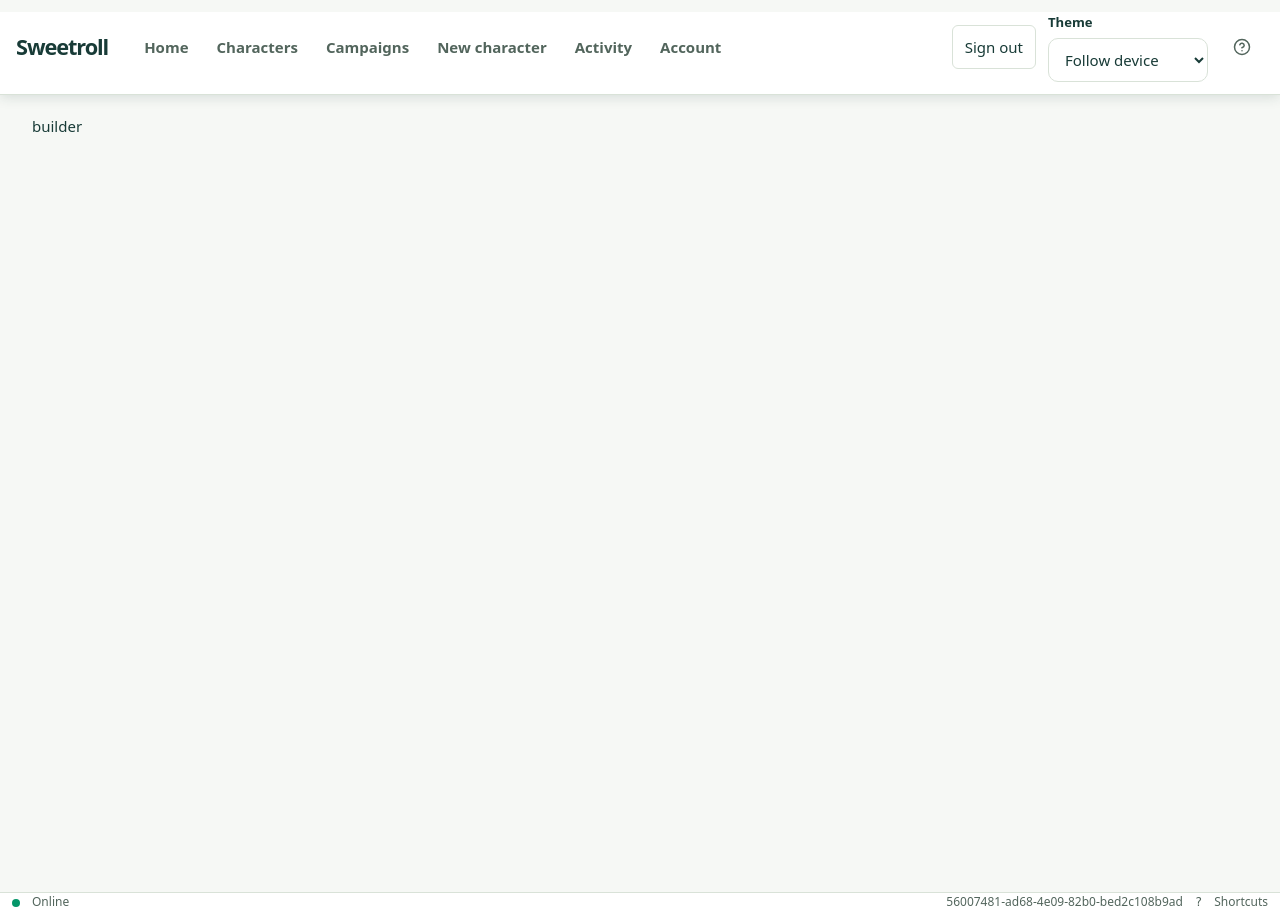
Test: AppShell › warns before clearing edits and distinguishes pending server signout
Click the button "Sign out": [994, 47] box [952,25,1036,69]
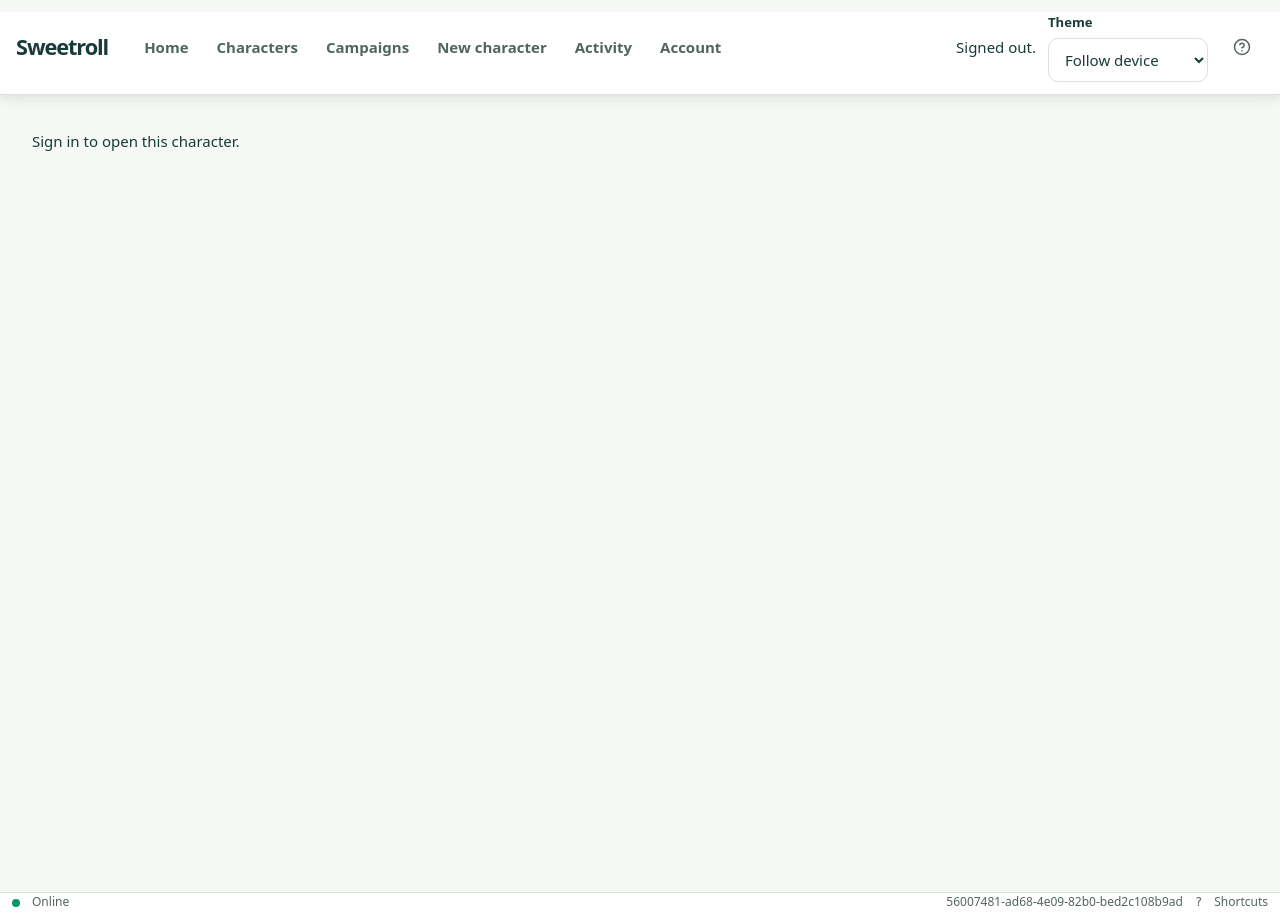
Expected: the button "Sign out" is gone
Expected: the text "Signed out." is shown, [956,36,1036,59]
